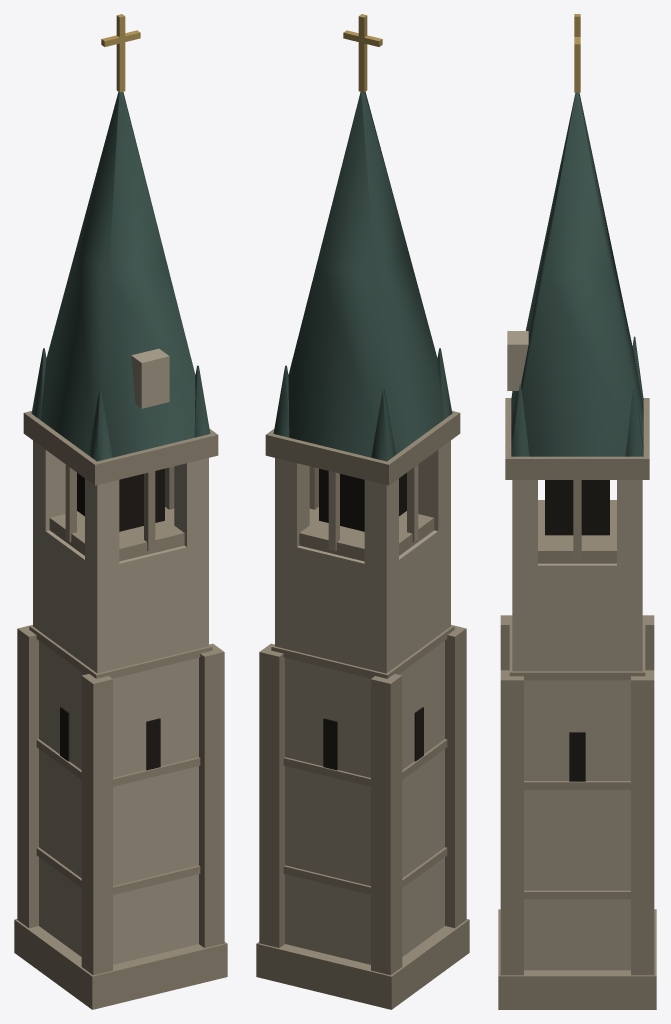
File: steeple-tower-b-lod0.glb
The picture shows the model from 3 angles, left to right: view 1: azimuth 30°, elevation 25°; view 2: azimuth 150°, elevation 25°; view 3: azimuth 270°, elevation 25°; orthographic projection.
Parts seen in each view (by area): view 1: shaft, spire, cross; view 2: shaft, spire, cross; view 3: shaft, spire, cross.
Part boxes in pixels (box(x1,y1,x2,y2)): shaft: box(14, 411, 227, 1009); spire: box(31, 92, 210, 461); cross: box(101, 14, 140, 92); shaft: box(256, 411, 469, 1009); spire: box(273, 92, 452, 461); cross: box(343, 14, 382, 92); shaft: box(498, 398, 656, 1009); spire: box(507, 92, 643, 456); cross: box(574, 14, 580, 92).
Bounding box in the file's own units: 3.4 × 22.8 × 3.4.
